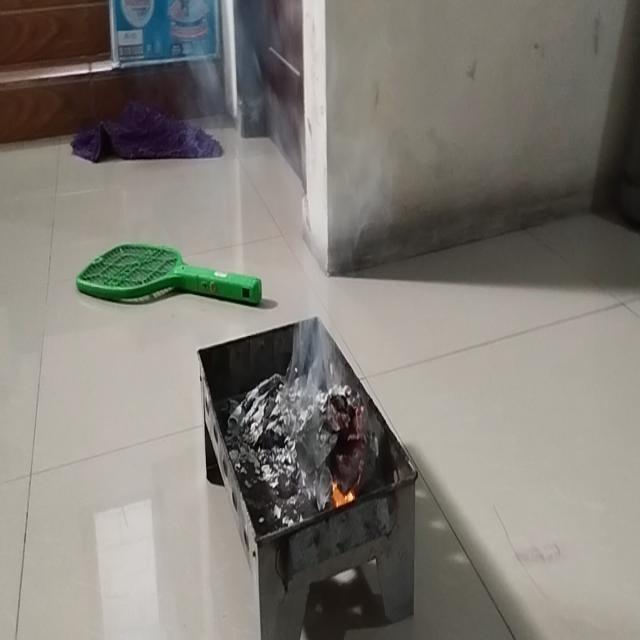fire: (172, 5, 270, 130), (301, 120, 392, 252), (284, 252, 340, 393)
